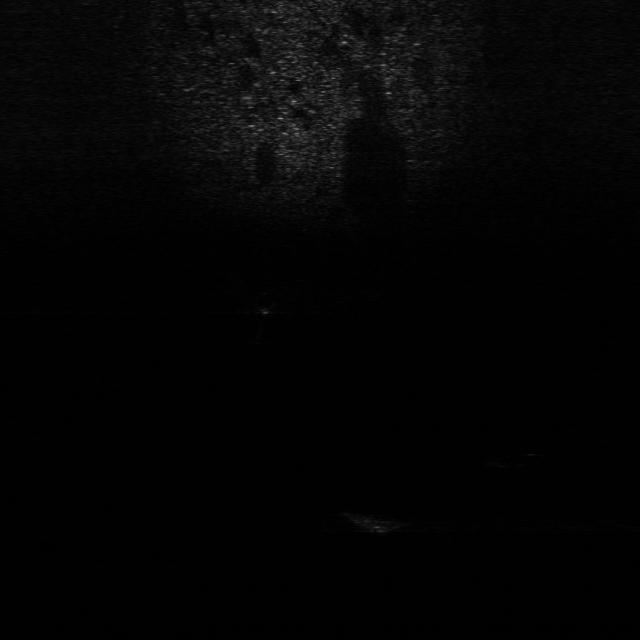ball: (248, 290, 282, 314)
metal bucket: (340, 504, 410, 540)
tyre: (488, 443, 543, 472)
